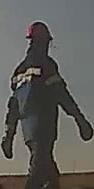gloves: (71, 112, 94, 142), (0, 131, 15, 160)
helmet: (24, 19, 53, 42)
vest: (11, 53, 62, 141)
